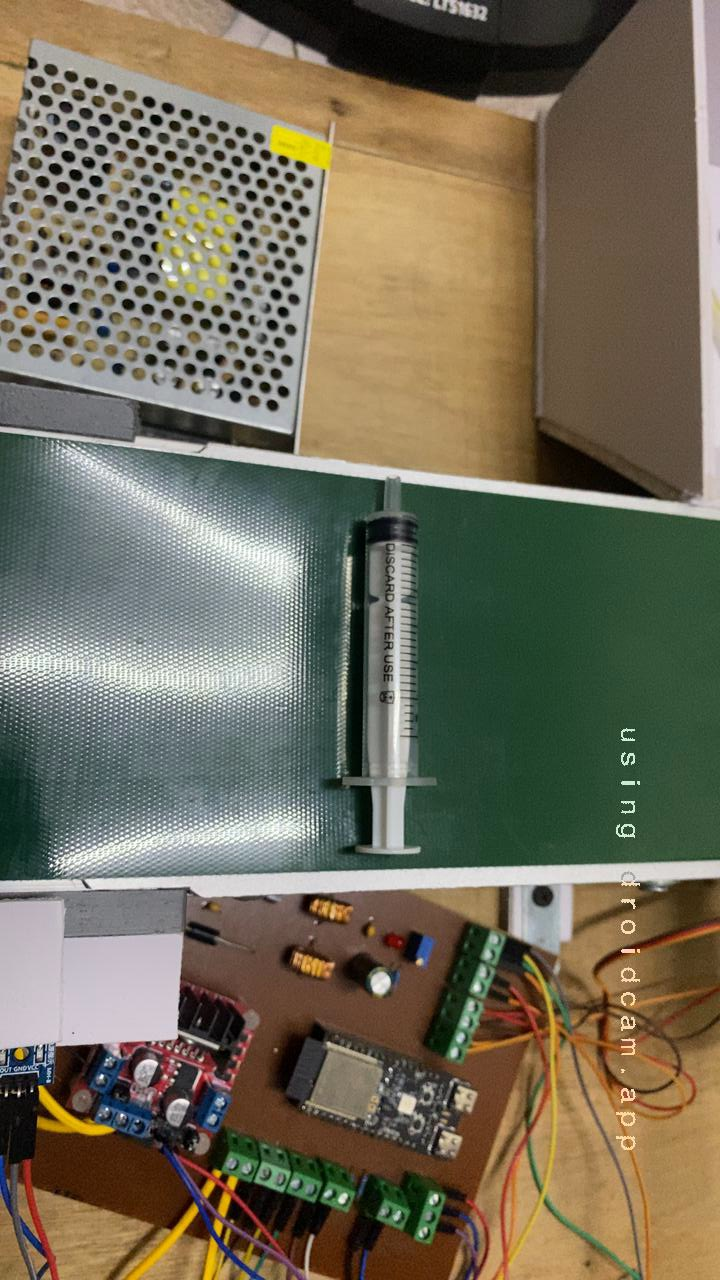syringe: (300, 494, 473, 899)
